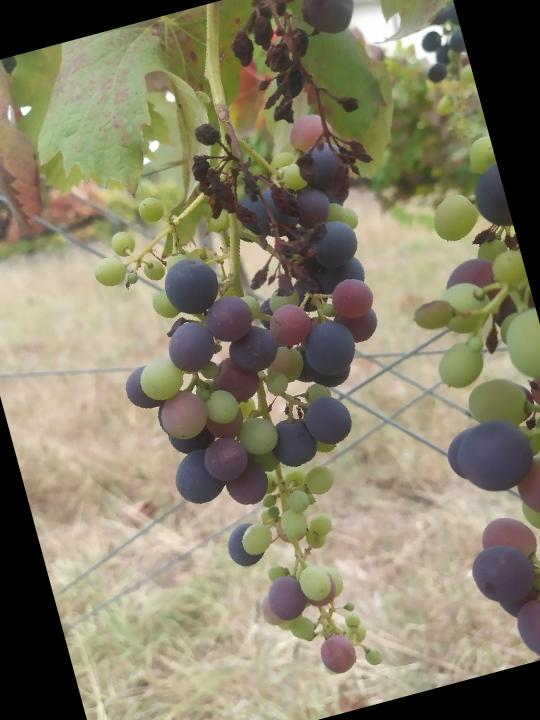grape: (62, 93, 474, 713), (220, 0, 408, 223)
